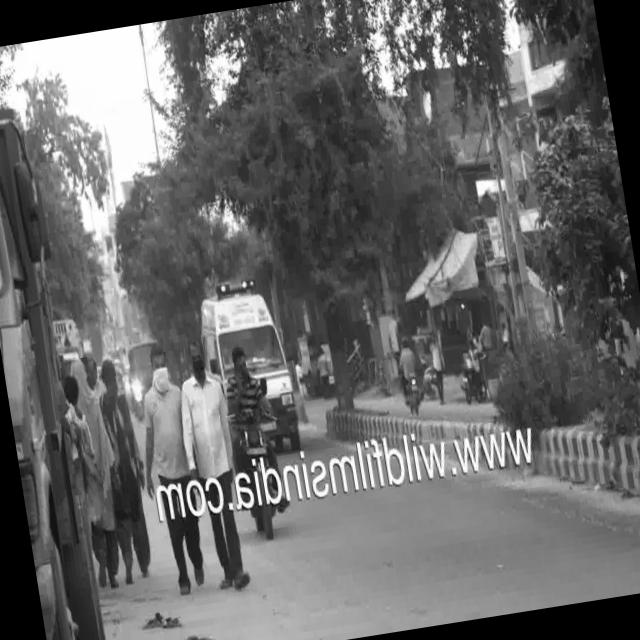ambulance: (198, 273, 300, 414)
